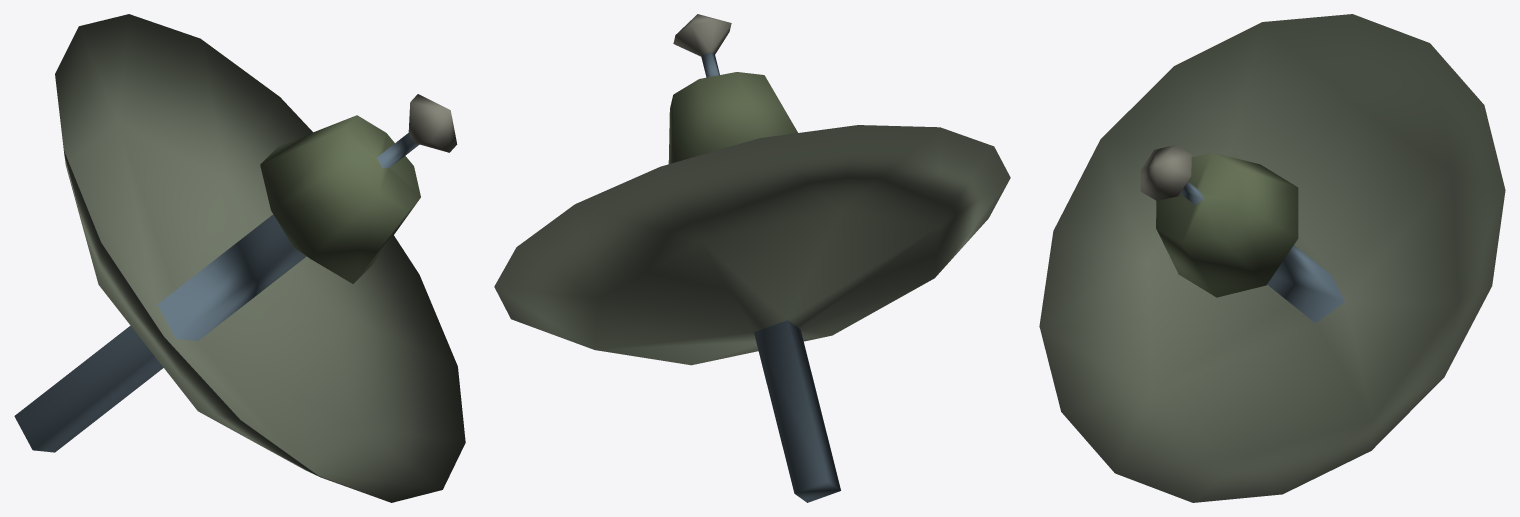
File: gvae.hrc.gltf
3 renders of one model, left to right at view 1: azimuth 30°, elevation 25°; view 2: azimuth 150°, elevation 25°; view 3: azimuth 270°, elevation 25°, orthographic. The views are drawn at different scales.
Parts seen in each view (by area): view 1: gvaeBone0_null; view 2: gvaeBone0_null; view 3: gvaeBone0_null.
Part boxes in pixels (left/top/right/bottom): gvaeBone0_null: left=14, top=14, right=465, bottom=502; gvaeBone0_null: left=494, top=14, right=1010, bottom=502; gvaeBone0_null: left=1039, top=14, right=1505, bottom=502.
Size of the model in its own units: 46.75 by 42.46 by 48.77.
